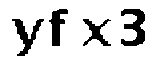3: (119, 4, 148, 51)
f: (46, 4, 72, 50)
x: (79, 15, 112, 50)
y: (5, 14, 45, 60)
